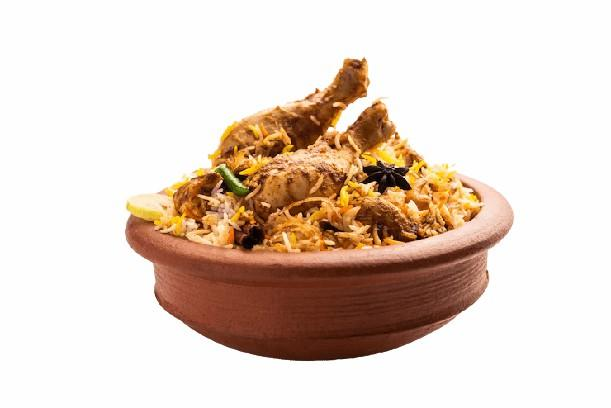Biryani: (128, 54, 481, 250)
